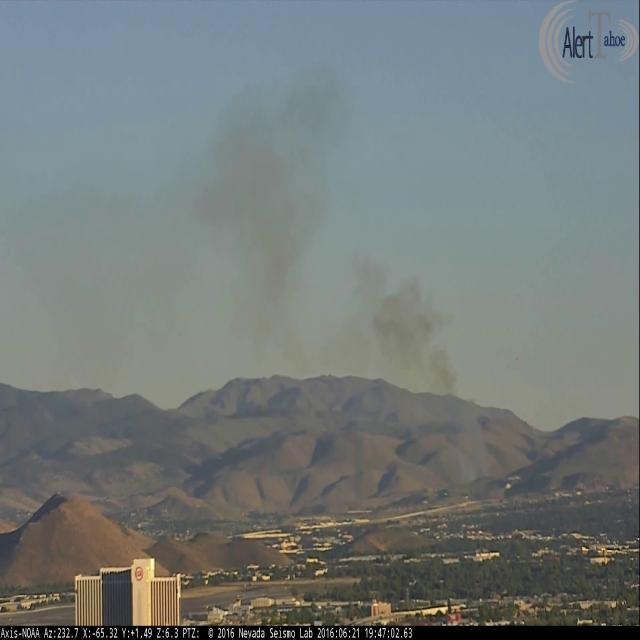smoke: (0, 66, 495, 484)
